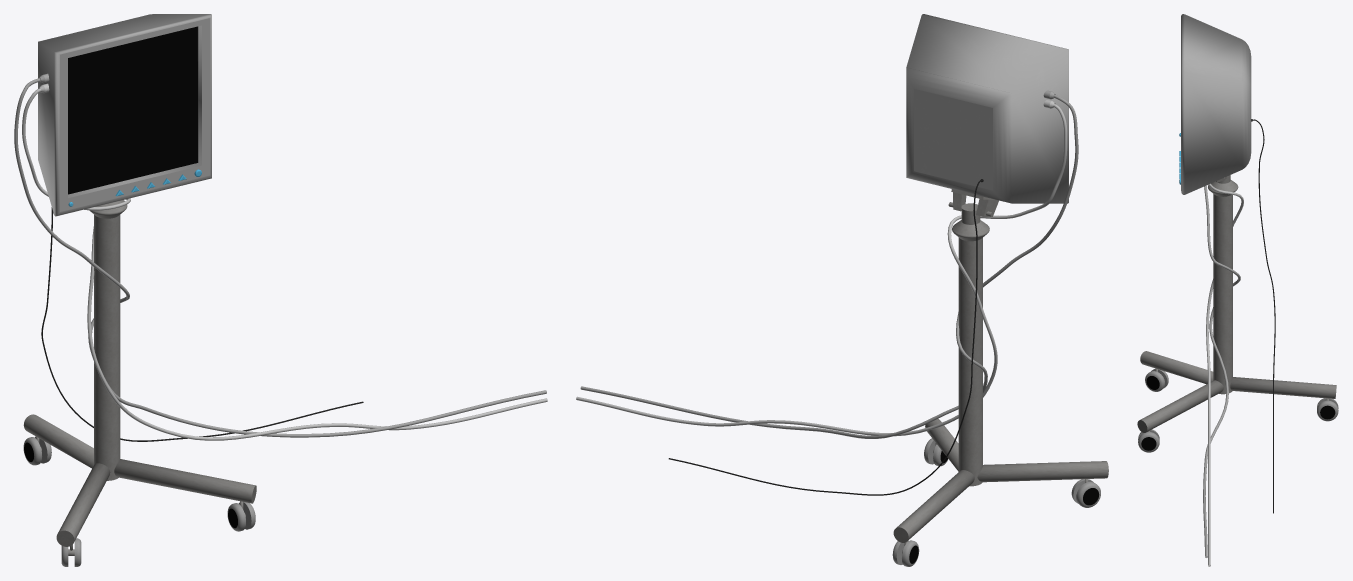
3 views of the same model, side by side, from view 1: azimuth 30°, elevation 25°; view 2: azimuth 150°, elevation 25°; view 3: azimuth 270°, elevation 25° (orthographic). The views are drawn at different scales.
Visible parts, largest first — view 1: SM_ECG; view 2: SM_ECG; view 3: SM_ECG.
Part boxes in pixels (bbox=[...]): SM_ECG: bbox=[14, 14, 547, 566]; SM_ECG: bbox=[576, 14, 1108, 566]; SM_ECG: bbox=[1137, 14, 1338, 566].
Size of the model in its own units: 1.7 by 1.52 by 0.7353.
Materials: 8 (8 with a texture image).
